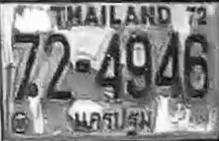2: (43, 33, 72, 98)
4: (94, 32, 122, 99), (155, 30, 182, 98)
6: (184, 32, 210, 99)
7: (13, 34, 40, 100)
9: (125, 33, 152, 99)
NPT: (68, 106, 153, 136)
